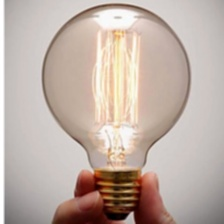light_bulb: (35, 0, 194, 222)
